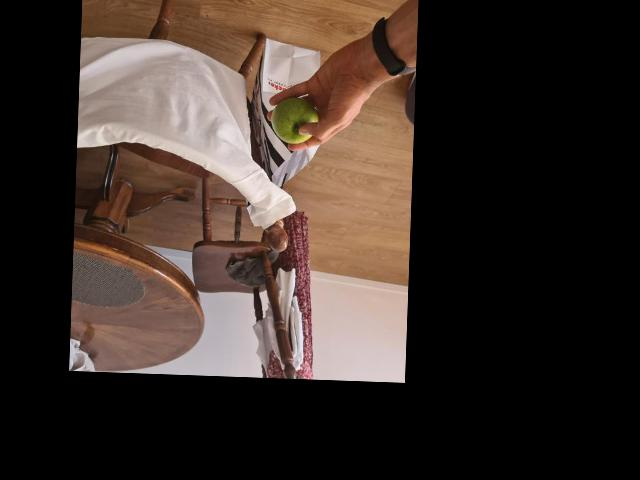apple: (273, 98, 315, 143)
